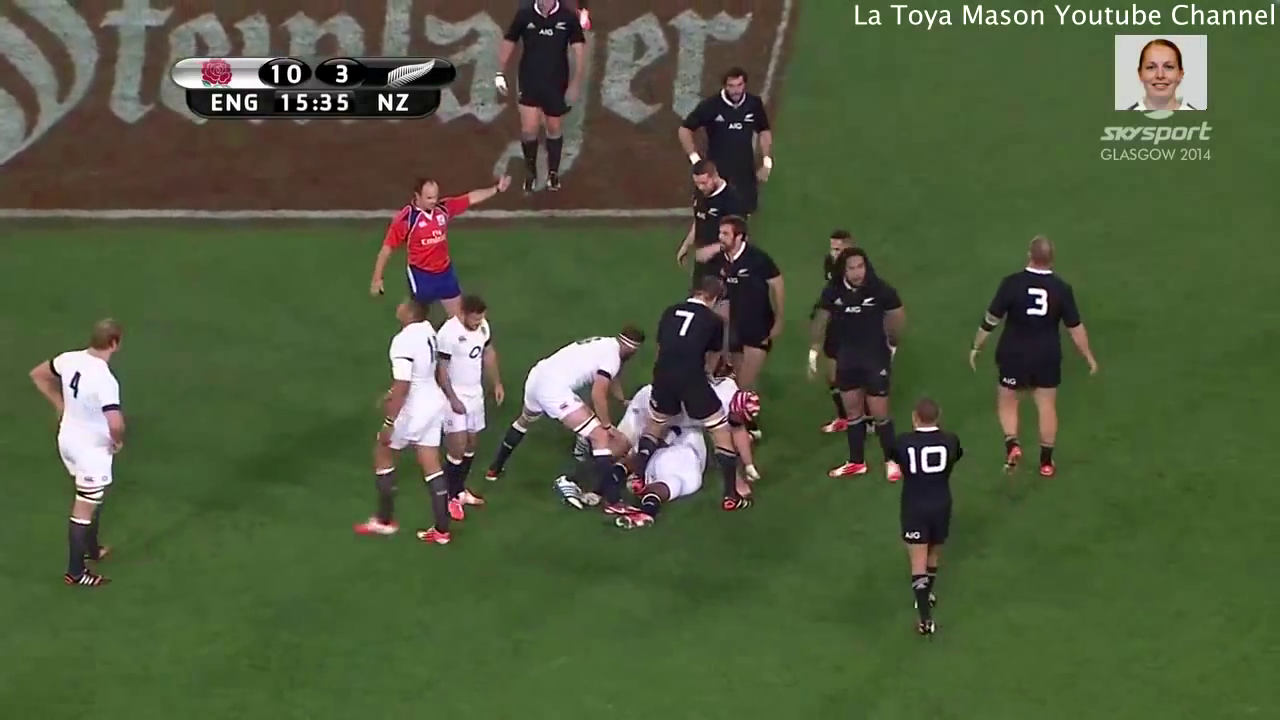player: (959, 227, 1101, 489), (29, 316, 138, 602), (343, 288, 451, 565), (483, 320, 646, 489), (807, 246, 913, 491), (875, 391, 968, 641), (353, 172, 485, 319), (493, 1, 588, 195), (639, 277, 733, 462), (444, 292, 505, 556), (674, 56, 778, 205), (701, 212, 785, 385), (679, 156, 746, 248), (805, 224, 857, 279)
ruck: (551, 363, 803, 544)
